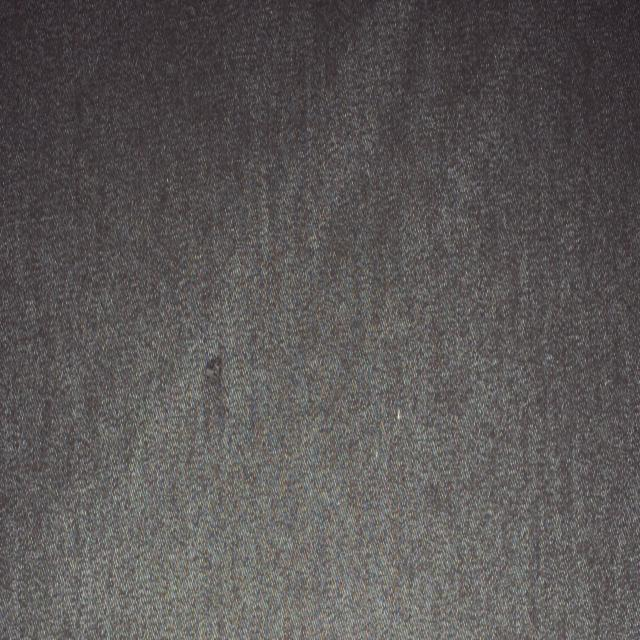Knot: (203, 355, 224, 396)
